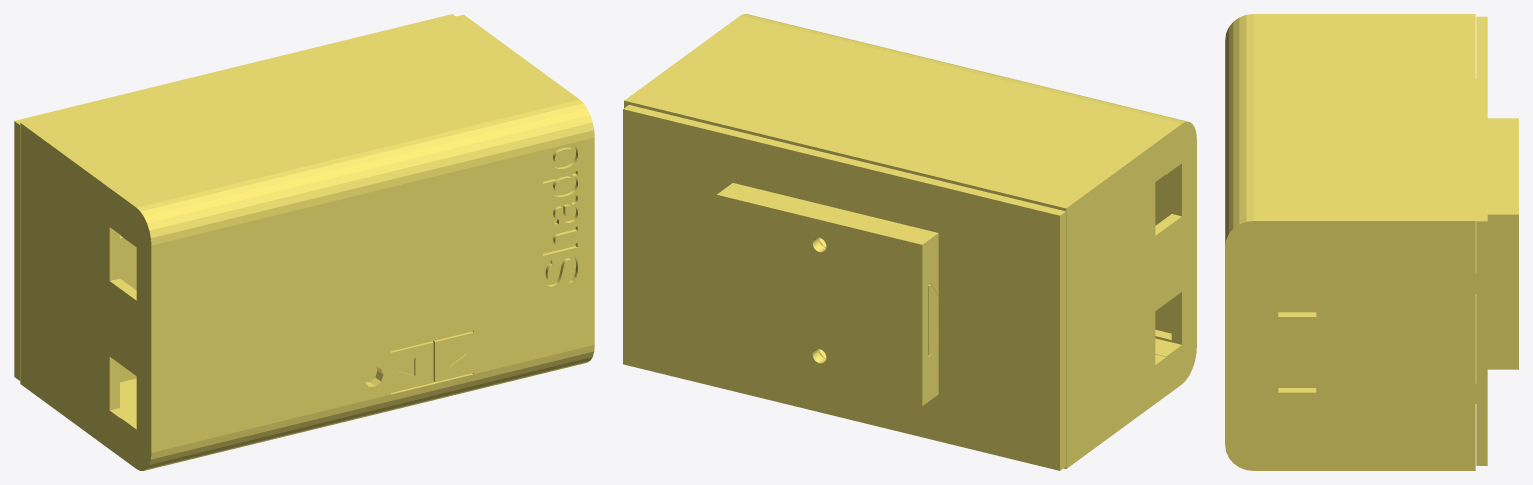
Rendered from frame_full.glb.
3 views of the same model, side by side, from view 1: azimuth 30°, elevation 25°; view 2: azimuth 150°, elevation 25°; view 3: azimuth 270°, elevation 25° (orthographic). The views are drawn at different scales.
Visible parts, largest first — view 1: 3MF; view 2: 3MF; view 3: 3MF.
Boxes of the visible parts, x1,y1,x2,y2 form: 3MF: [14, 14, 594, 470]; 3MF: [623, 14, 1196, 470]; 3MF: [1225, 14, 1518, 470].
Bounding box in the file's own units: 129 × 72.65 × 77.35.
